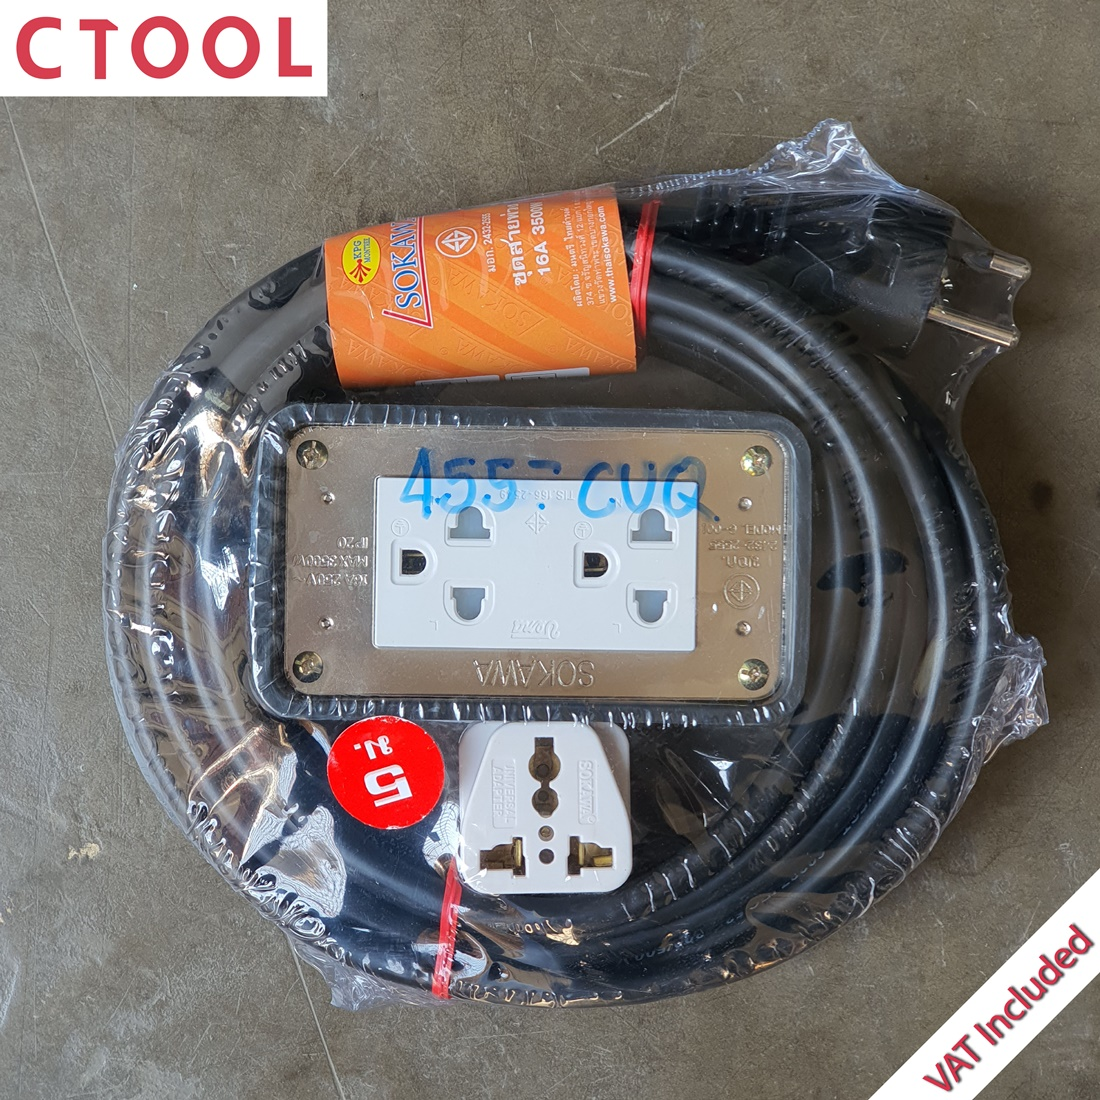Three_eye_plug: (166, 329, 910, 803)
